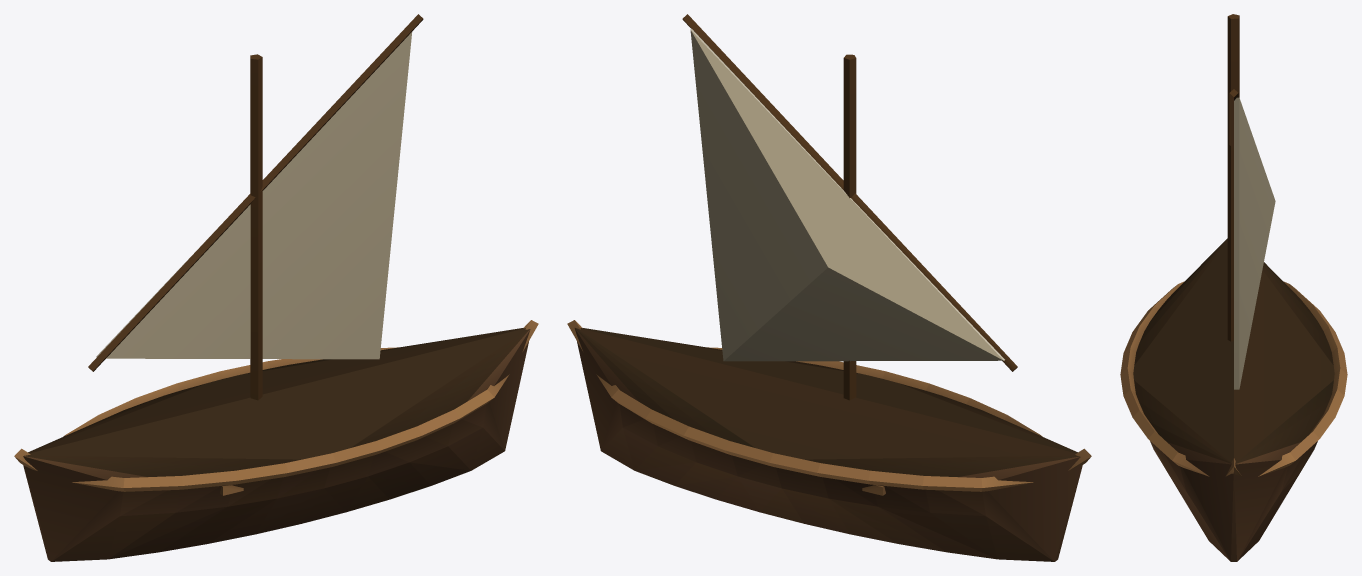
Rendered from galboat.glb.
3 views of the same model, side by side, from view 1: azimuth 30°, elevation 25°; view 2: azimuth 150°, elevation 25°; view 3: azimuth 270°, elevation 25° (orthographic). The views are drawn at different scales.
Visible parts, largest first — view 1: base, sail_m; view 2: base, sail_m; view 3: base, sail_m.
Boxes of the visible parts, left/top/right/bottom form: base: left=14, top=54, right=538, bottom=561; sail_m: left=88, top=14, right=423, bottom=371; base: left=567, top=54, right=1091, bottom=561; sail_m: left=682, top=14, right=1017, bottom=371; base: left=1120, top=14, right=1347, bottom=561; sail_m: left=1229, top=89, right=1275, bottom=389.
Bounding box in the file's own units: 2.16 × 1.8 × 0.8535.
